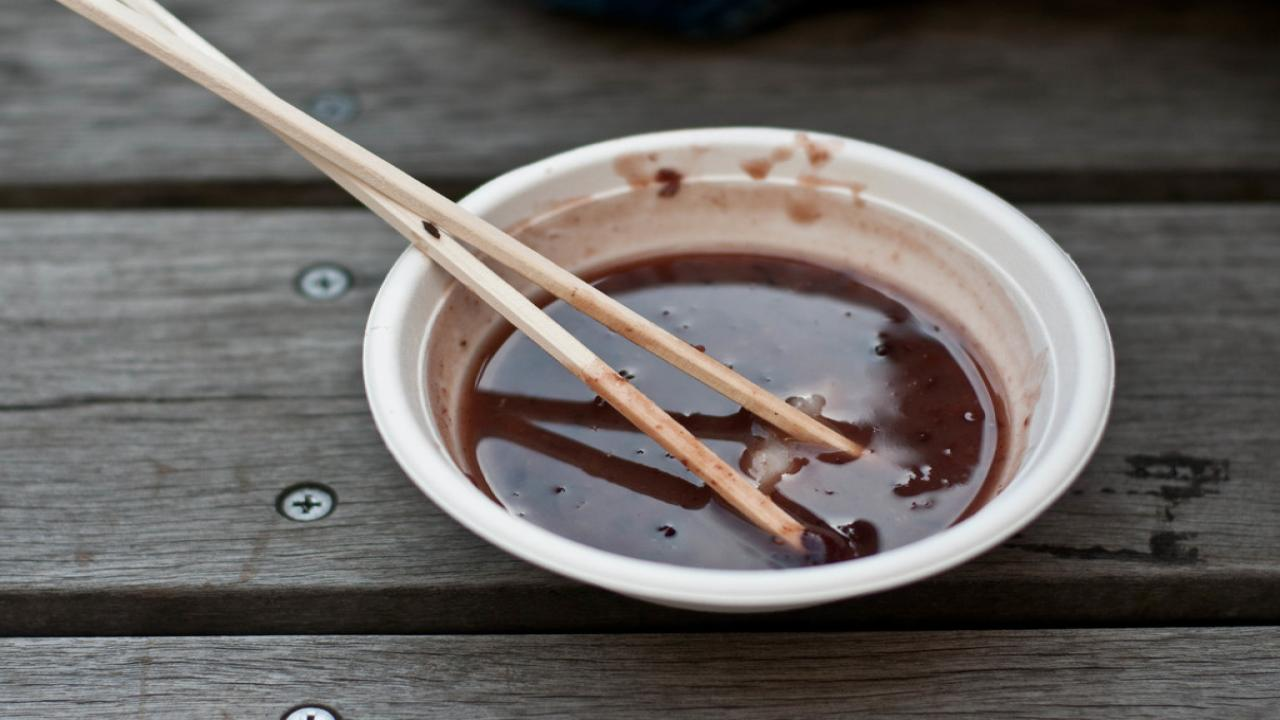chopstick: (59, 0, 868, 552)
